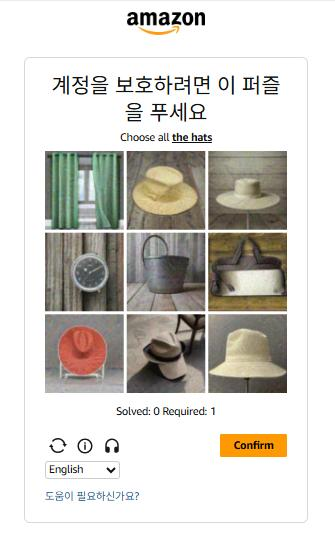button: (220, 431, 295, 460), (37, 488, 141, 507), (172, 129, 222, 145), (45, 428, 72, 454), (98, 428, 123, 456), (75, 434, 93, 452)
checkbox: (41, 457, 122, 477)
